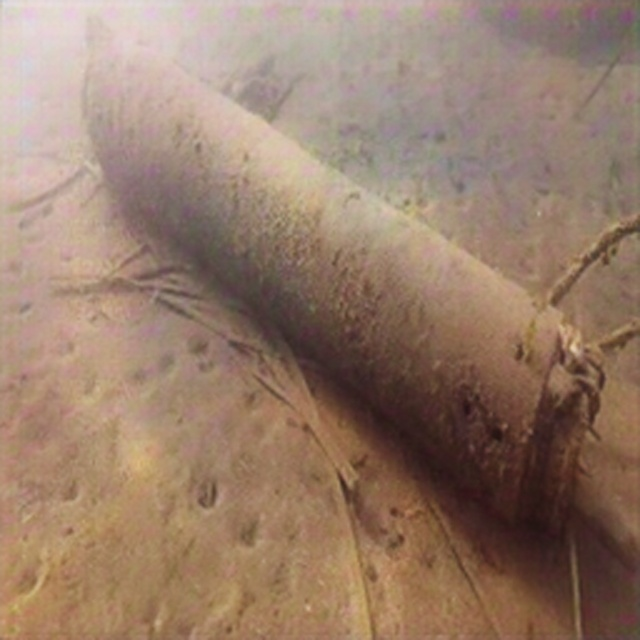mine: (81, 15, 602, 534)
